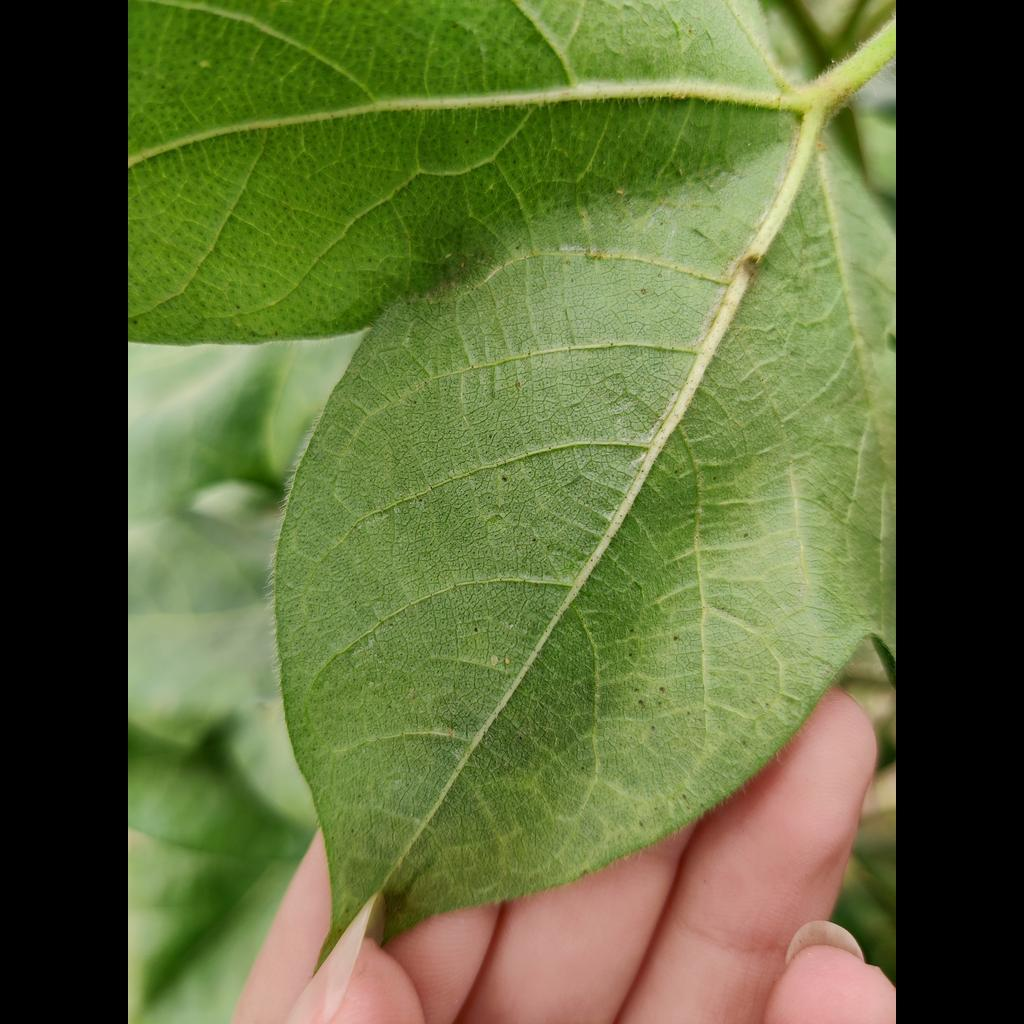nymph: (490, 654, 499, 667), (444, 253, 452, 259)
